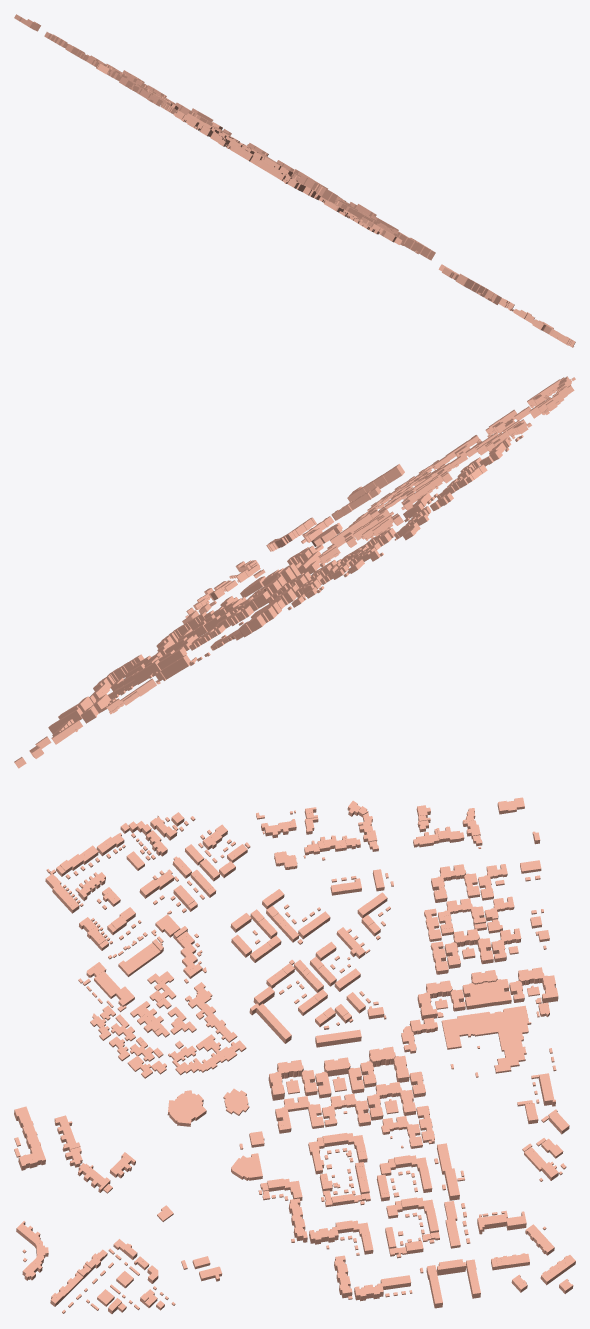
The picture shows the model from 3 angles, top to bottom: view 1: azimuth 30°, elevation 25°; view 2: azimuth 150°, elevation 25°; view 3: azimuth 270°, elevation 25°; orthographic projection. The views are drawn at different scales.
Bounding box in the file's own units: 524 × 388 × 613.
